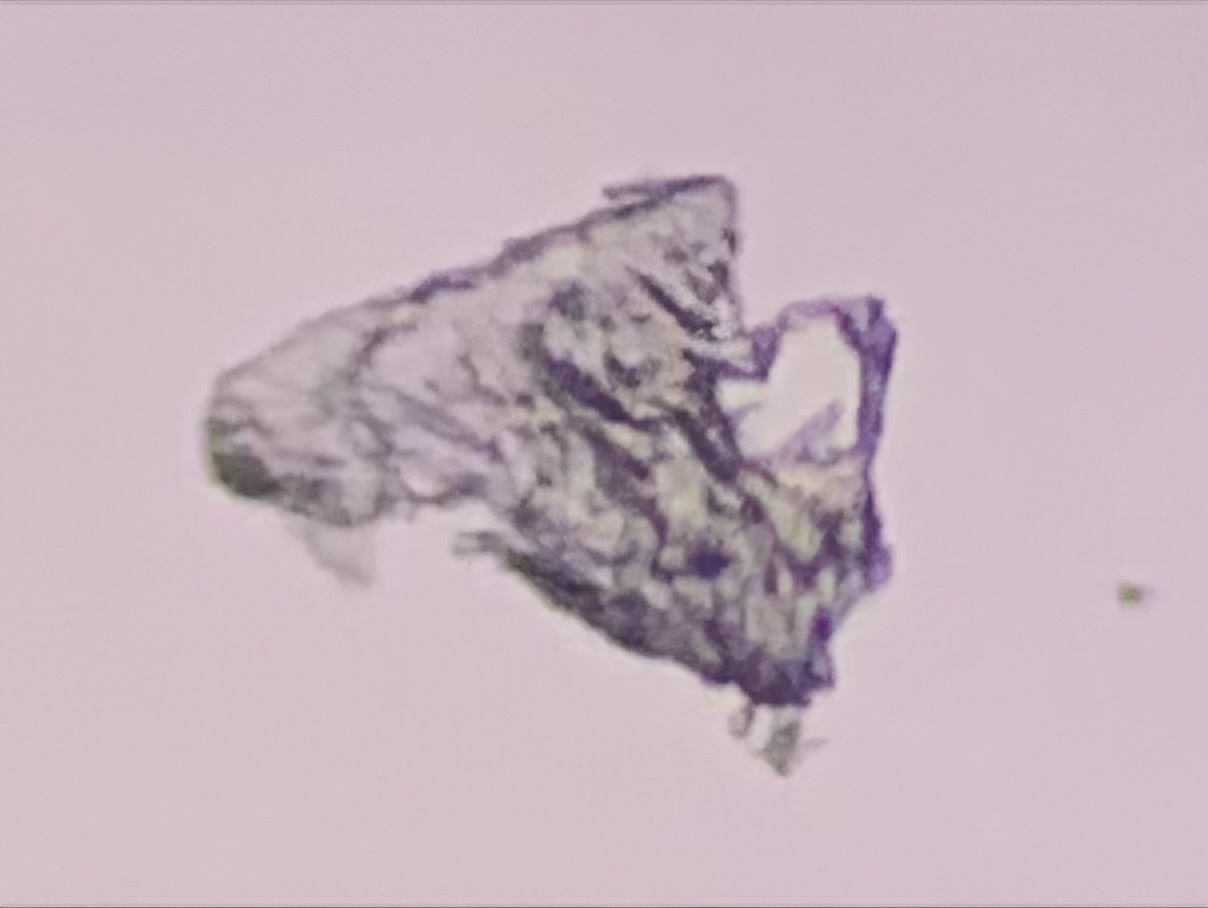microplastic: (201, 174, 898, 780)
